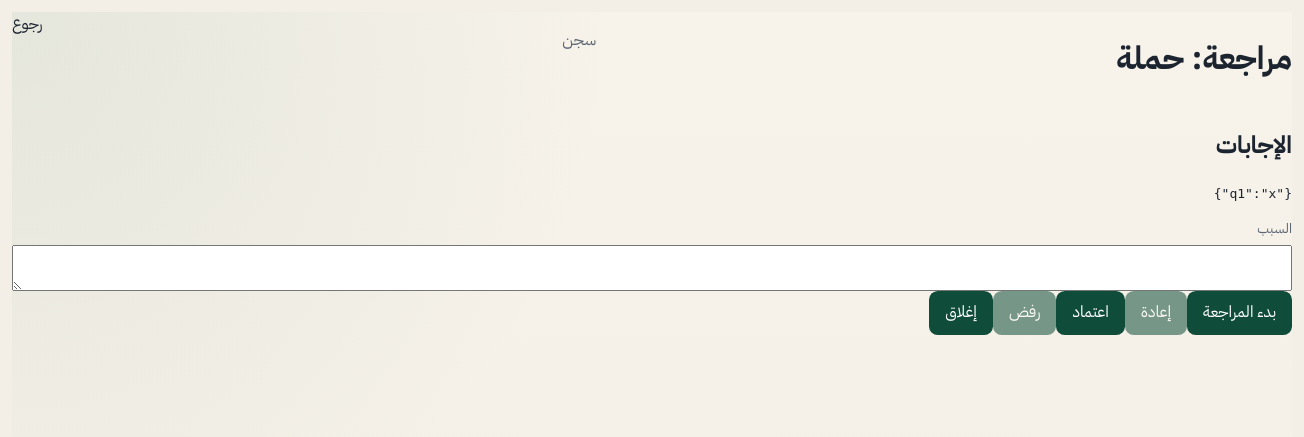
Test case: FormResponseReviewDetailPage › shows network alert when approve fails generically
Click the button "اعتماد" at (1091, 313), box [1056,291,1125,335]
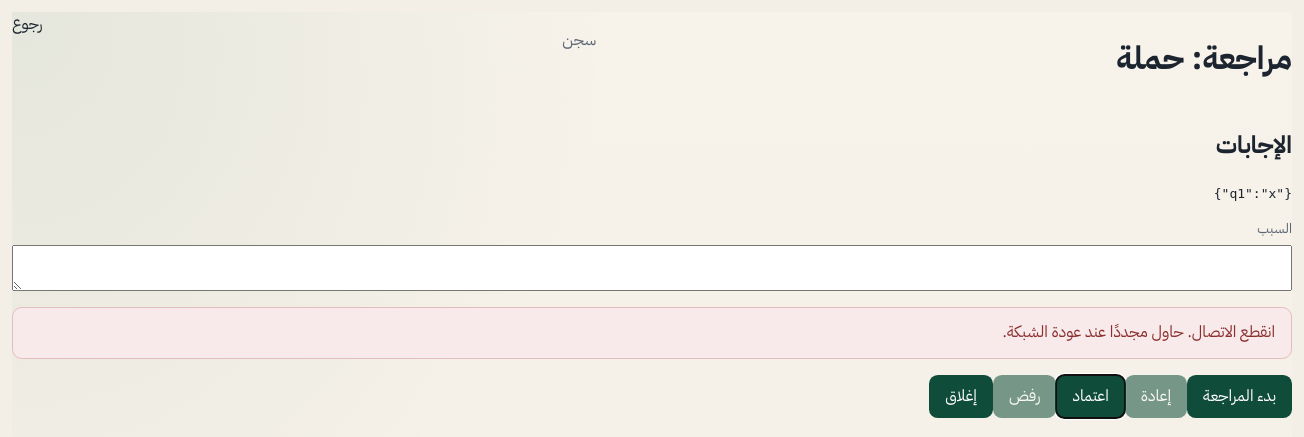
Now the message shows "انقطع الاتصال", box [1002,320,1275,344]
